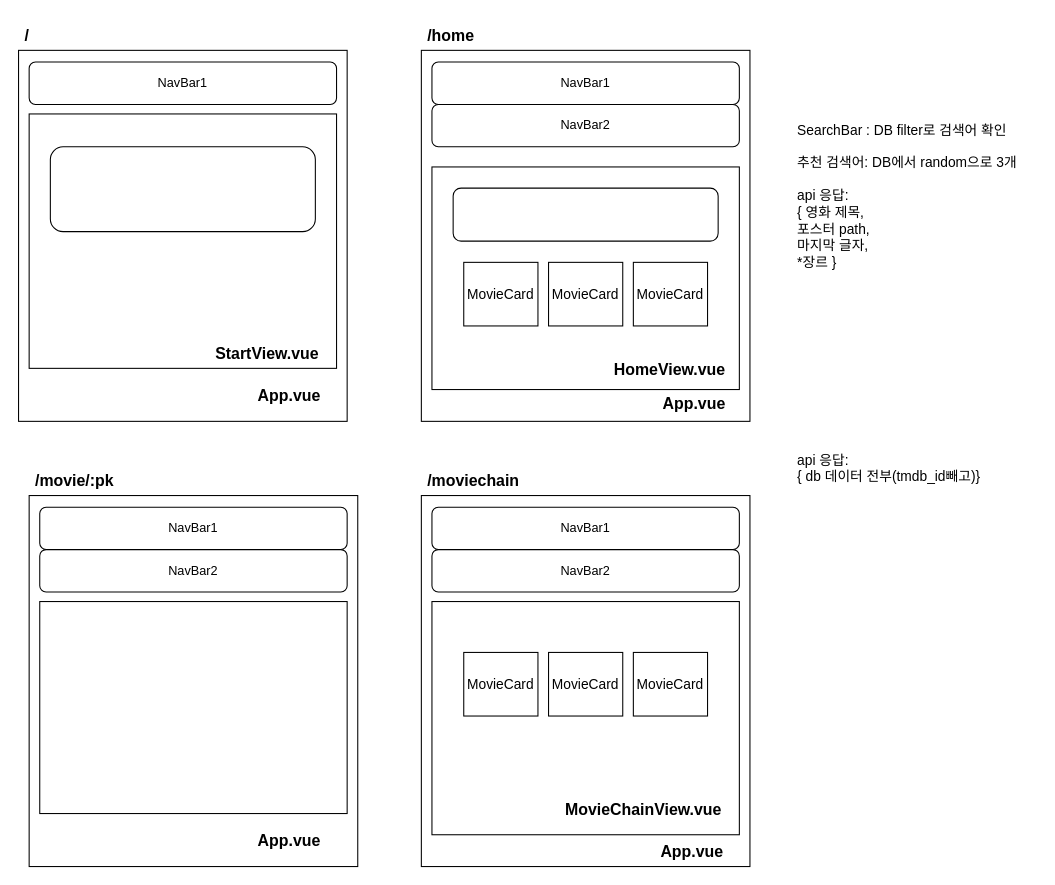
This 1055x885 diagram has some shape labels left out. The shapes that lost their labels are listed below. From the top down, each one's centre as x and y in pixels, then its label:
At pixel 182 189: "TrainImg".
At pixel 585 214: "SearchBar".
At pixel 193 707: "MovieDetailView.vue".
